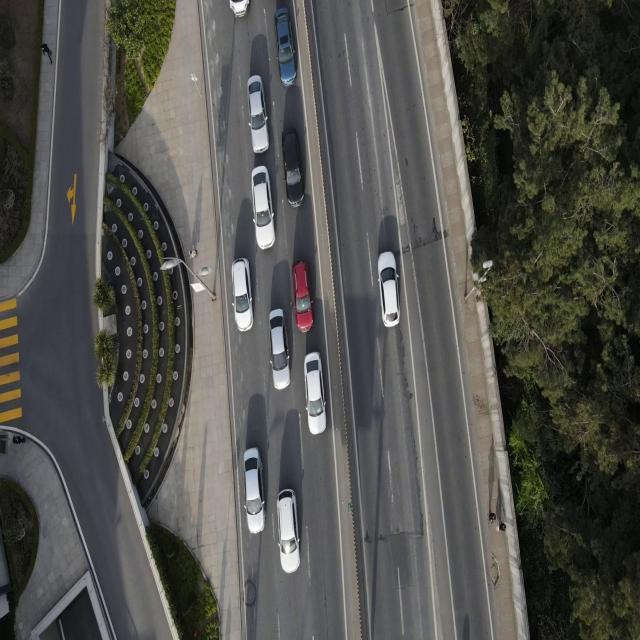p3rson: (40, 42, 57, 64), (13, 435, 26, 447), (496, 520, 506, 535), (188, 249, 198, 261), (487, 512, 497, 524)
